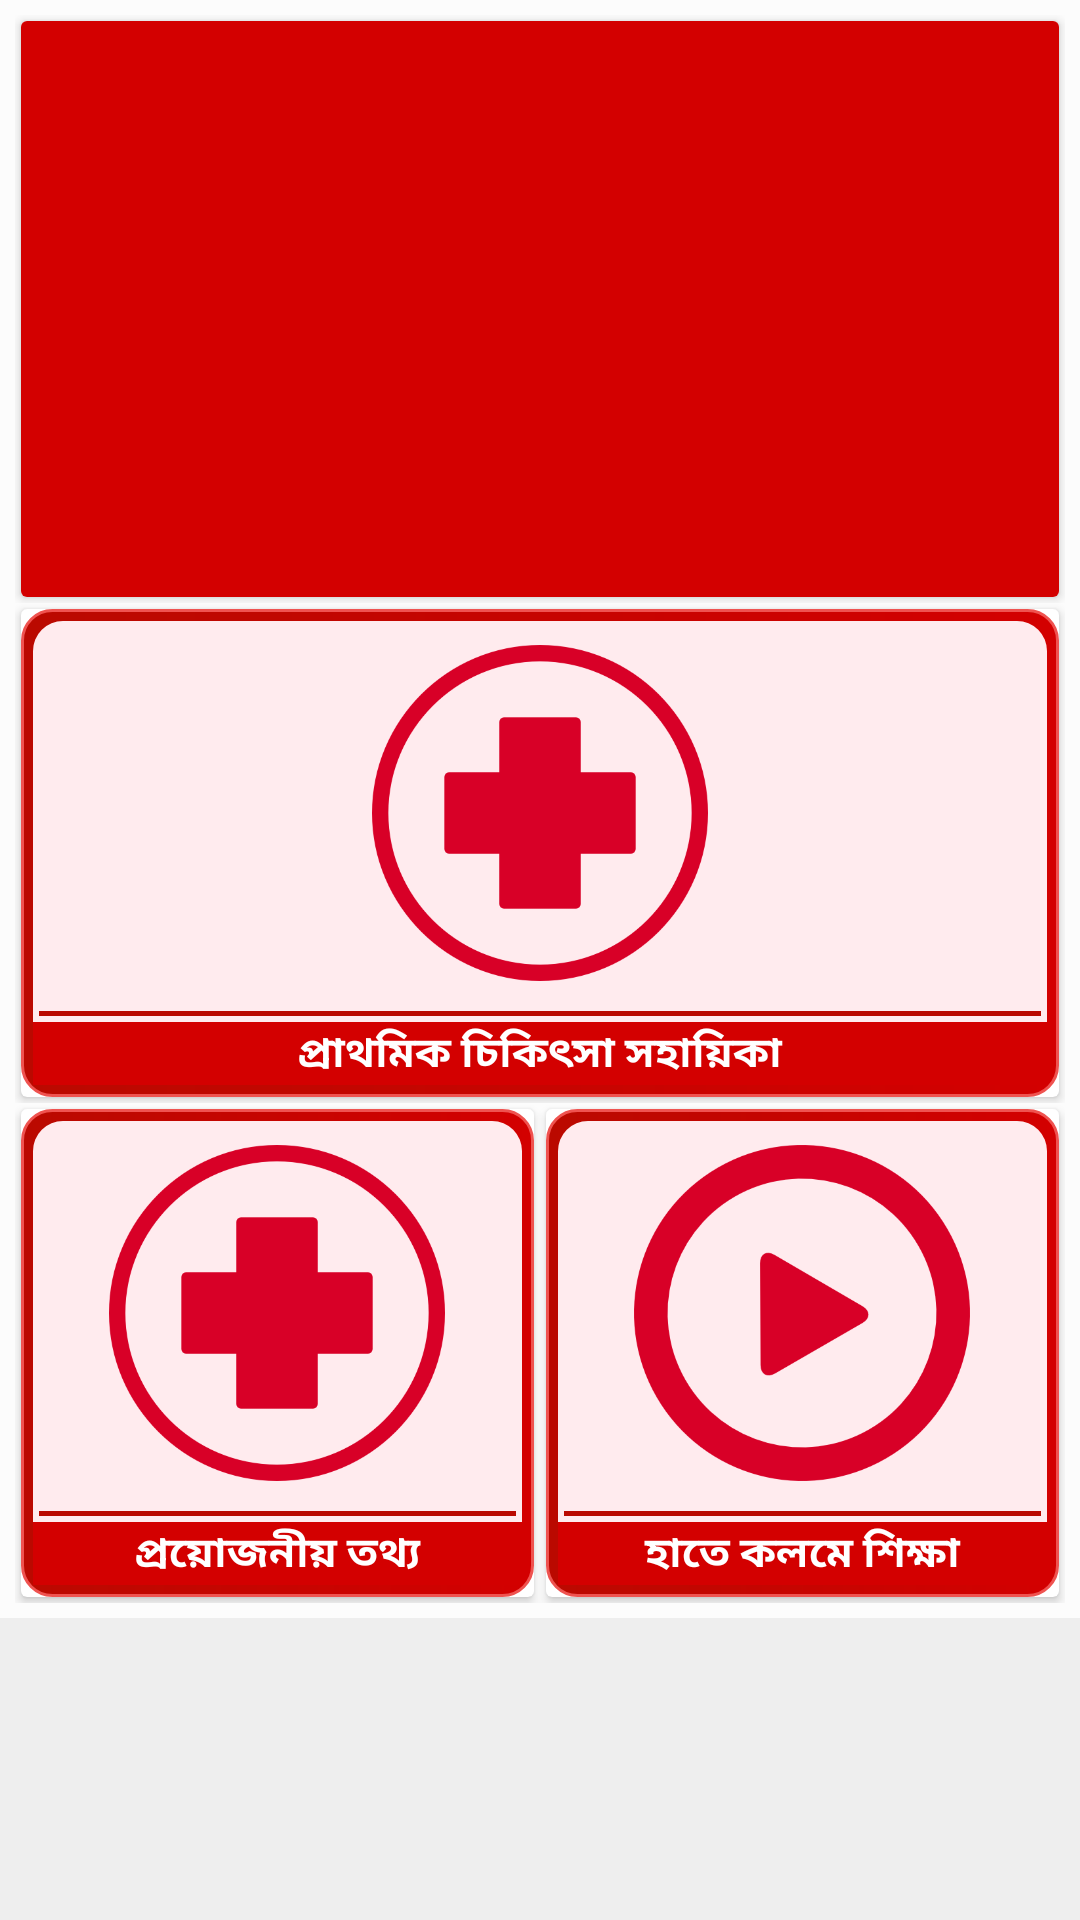

Locate icon controls on the screen. Image size 1080px×1920px, boxes as {"left": x1, "top": y1, "right": x2, "bottom": y2}.
playcolor: {"left": 634, "top": 1145, "right": 970, "bottom": 1481}
